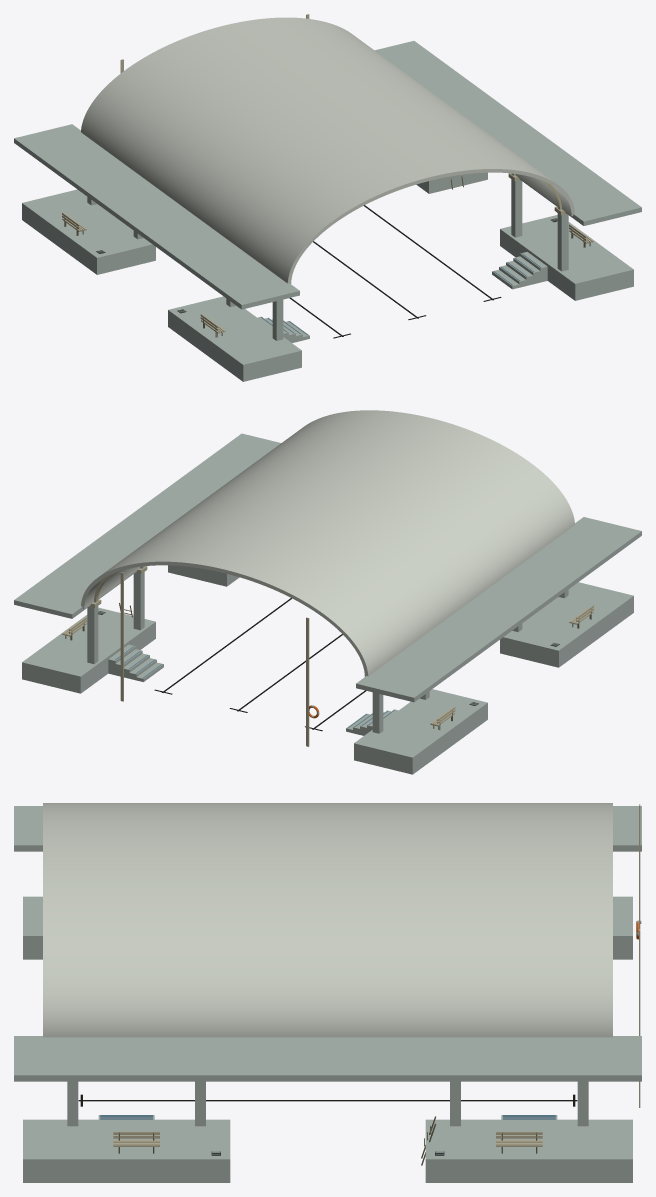
Rendered from quiet-wing-vaulted-lap-hall.glb.
3 views of the same model, one above another, from view 1: azimuth 30°, elevation 25°; view 2: azimuth 150°, elevation 25°; view 3: azimuth 270°, elevation 25° (orthographic). The views are drawn at different scales.
Parts seen in each view (by area): view 1: Continuous elliptical barrel vault, Ceramic architectural part 001, Ceramic architectural part 002, Ceramic architectural part 052, Ceramic architectural part 028, Ceramic architectural part 100, Ceramic architectural part 076, Ceramic architectural part 013, Ceramic architectural part 017; view 2: Continuous elliptical barrel vault, Ceramic architectural part 001, Ceramic architectural part 002, Ceramic architectural part 028, Ceramic architectural part 052, Ceramic architectural part 076, Ceramic architectural part 100, Ceramic architectural part 009, Ceramic architectural part 005, Ceramic architectural part 126; view 3: Continuous elliptical barrel vault, Ceramic architectural part 002, Ceramic architectural part 100, Ceramic architectural part 076, Ceramic architectural part 001, Ceramic architectural part 028, Ceramic architectural part 052, Flush ceramic inlay, Ceramic architectural part 005, Ceramic architectural part 017.
Boxes of the visible parts, x1,y1,x2,y2 form: Continuous elliptical barrel vault: (81,17,574,283); Ceramic architectural part 001: (14,124,299,309); Ceramic architectural part 002: (375,41,641,225); Ceramic architectural part 052: (168,296,301,381); Ceramic architectural part 028: (22,189,155,274); Ceramic architectural part 100: (500,215,633,300); Ceramic architectural part 076: (416,172,487,193); Ceramic architectural part 013: (511,175,522,237); Ceramic architectural part 017: (557,209,568,271); Continuous elliptical barrel vault: (81,410,574,676); Ceramic architectural part 001: (356,517,641,702); Ceramic architectural part 002: (14,433,280,618); Ceramic architectural part 028: (354,689,487,774); Ceramic architectural part 052: (500,582,633,667); Ceramic architectural part 076: (22,607,155,693); Ceramic architectural part 100: (168,565,239,586); Ceramic architectural part 009: (133,568,144,630); Ceramic architectural part 005: (87,602,98,664); Ceramic architectural part 126: (120,572,123,701); Continuous elliptical barrel vault: (43,803,612,1037); Ceramic architectural part 002: (14,1036,641,1081); Ceramic architectural part 100: (23,1119,230,1182); Ceramic architectural part 076: (425,1119,632,1182); Ceramic architectural part 001: (14,806,641,851); Ceramic architectural part 028: (613,896,632,959); Ceramic architectural part 052: (23,896,42,959); Flush ceramic inlay: (78,1100,577,1101); Ceramic architectural part 005: (577,1081,588,1126); Ceramic architectural part 017: (67,1081,78,1126).
Size of the model in its own units: 31.95 by 11.62 by 31.5.
